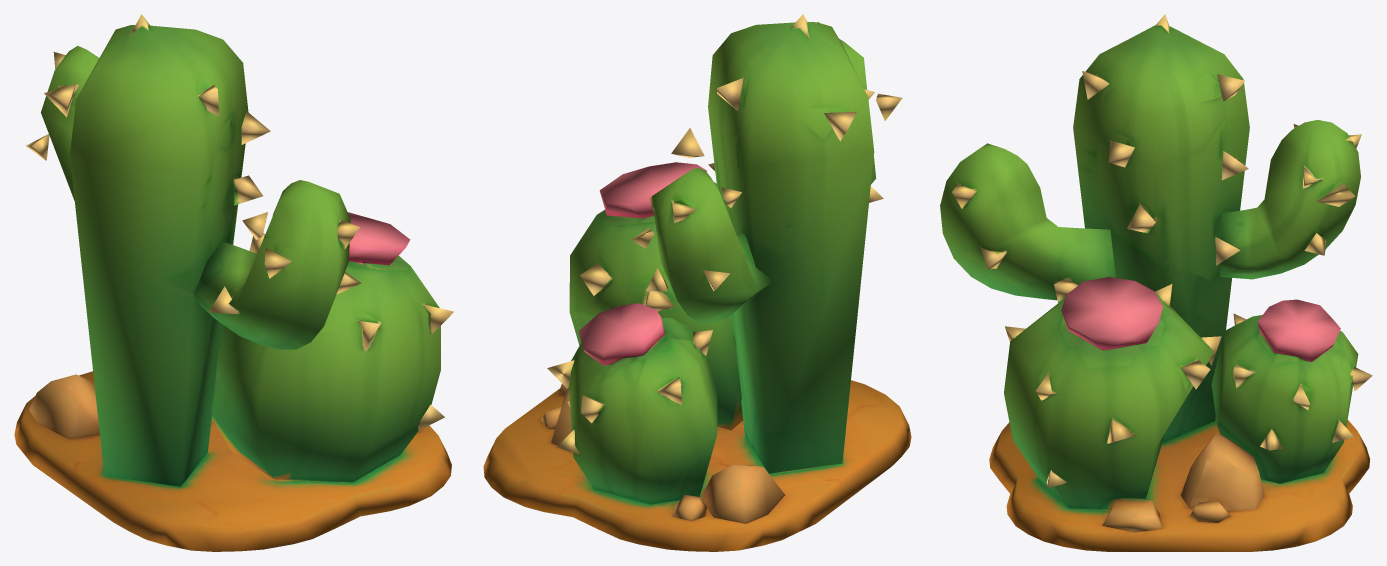
Rendered from cactus+3d+model.fbx.
The picture shows the model from 3 angles, left to right: view 1: azimuth 30°, elevation 25°; view 2: azimuth 150°, elevation 25°; view 3: azimuth 270°, elevation 25°; orthographic projection. The views are drawn at different scales.
Parts seen in each view (by area): view 1: meshes[0]; view 2: meshes[0]; view 3: meshes[0].
Part boxes in pixels (<box>): meshes[0]: <box>14,14,453,551</box>; meshes[0]: <box>483,14,911,551</box>; meshes[0]: <box>940,14,1372,551</box>.
Bounding box in the file's own units: 0.748 × 0.998 × 0.9277.
Materials: 1 (1 with a texture image).
